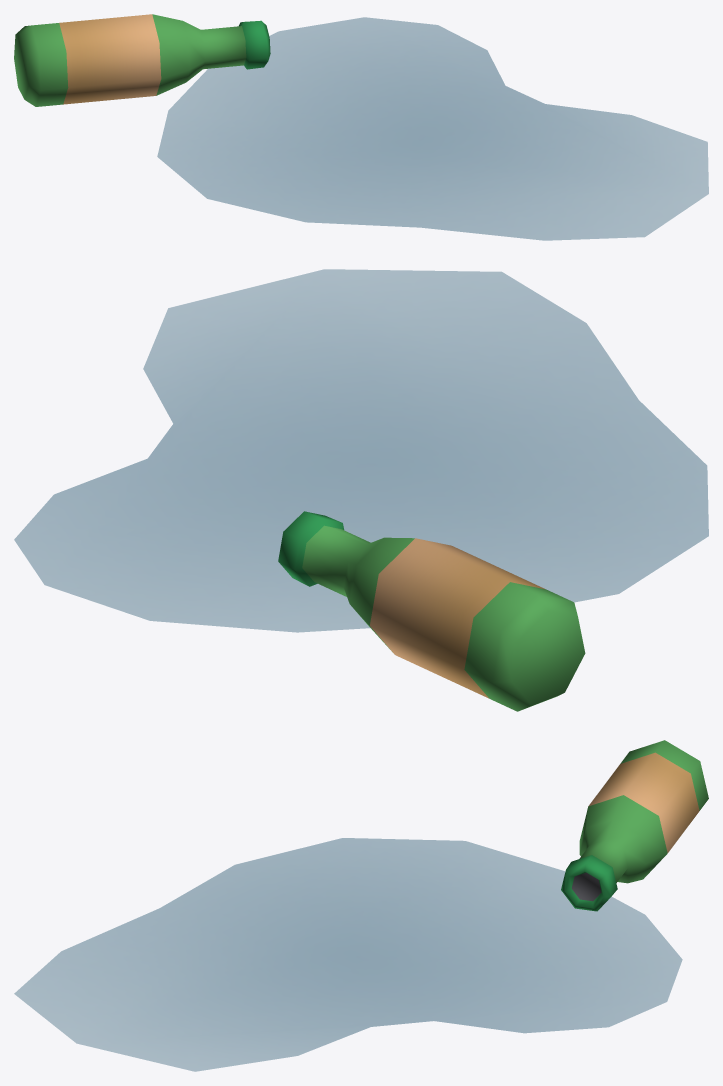
Rendered from Bottle.fbx.
3 renders of one model, top to bottom at view 1: azimuth 30°, elevation 25°; view 2: azimuth 150°, elevation 25°; view 3: azimuth 270°, elevation 25°, orthographic. The views are drawn at different scales.
Visible parts, largest first — view 1: Bottle; view 2: Bottle; view 3: Bottle.
Part boxes in pixels (<box>): Bottle: <box>14,14,708,240</box>; Bottle: <box>14,269,708,711</box>; Bottle: <box>14,740,708,1071</box>.
Size of the model in its own units: 181 by 26.59 by 205.
